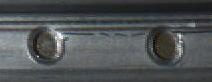joints: (24, 24, 64, 66), (145, 24, 184, 66)
